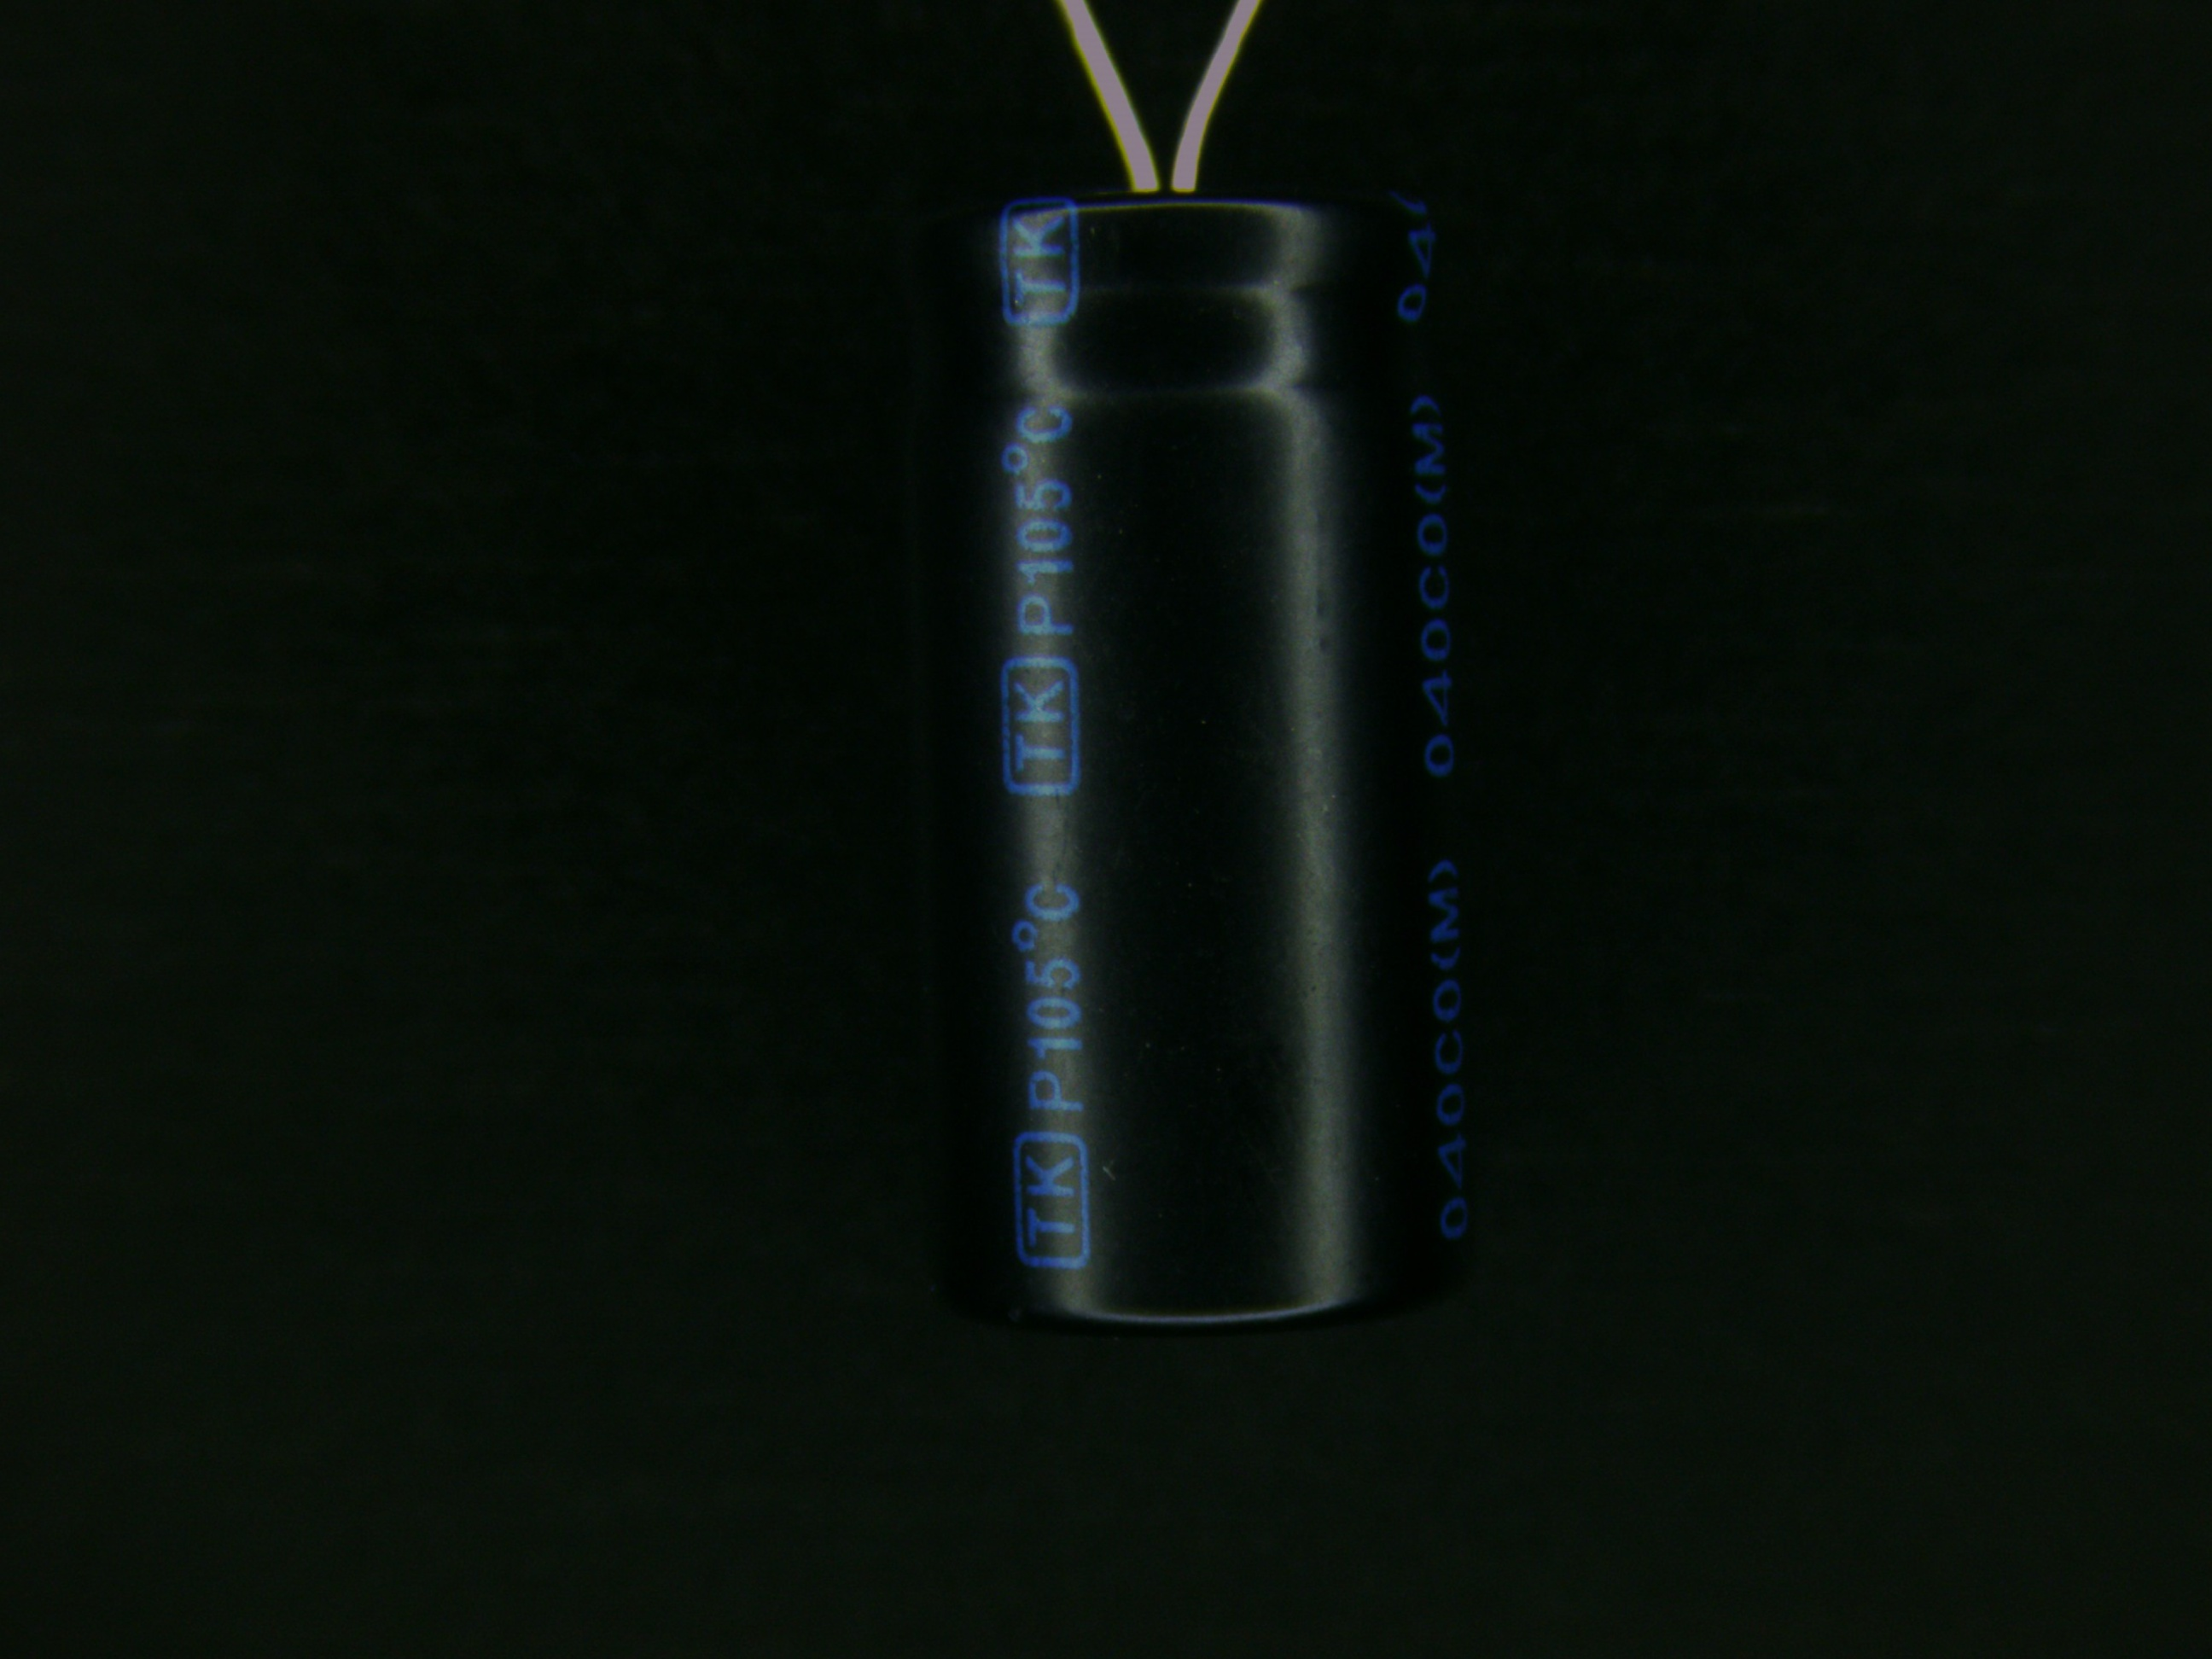c2: (897, 85, 1498, 1335)
